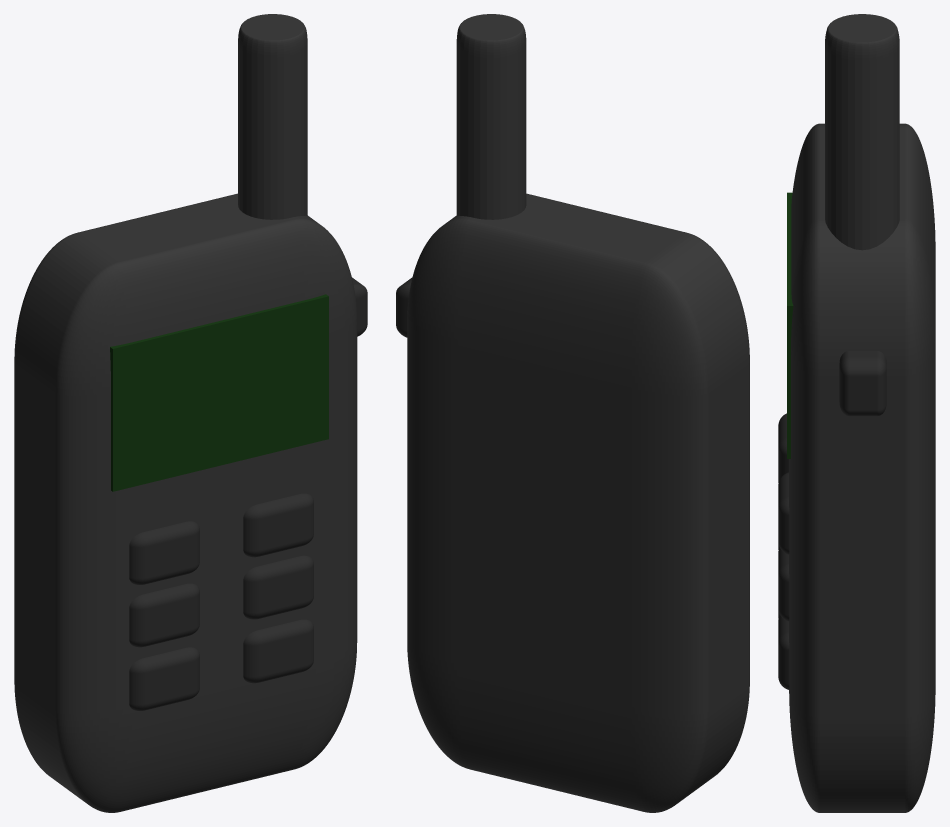
File: WalkieTalkie.fbx
The picture shows the model from 3 angles, left to right: view 1: azimuth 30°, elevation 25°; view 2: azimuth 150°, elevation 25°; view 3: azimuth 270°, elevation 25°; orthographic projection. The views are drawn at different scales.
Visible parts, largest first — view 1: Cube, Cube.001, Cylinder, Cube.004, Cube.006, Cube.003, Cube.007, Cube.002, Cube.005; view 2: Cube, Cylinder, Cube.008; view 3: Cube, Cylinder, Cube.008, Cube.001, Cube.006, Cube.002, Cube.004, Cube.007.
Part boxes in pixels (x1,y1,x2,y2): Cube: (14,193,357,812); Cube.001: (110,294,328,491); Cylinder: (238,14,307,219); Cube.004: (243,555,313,619); Cube.006: (243,493,313,557); Cube.003: (129,647,199,710); Cube.007: (129,521,199,584); Cube.002: (243,619,313,683); Cube.005: (129,583,199,647); Cube: (407,193,749,812); Cylinder: (456,14,526,219); Cube.008: (396,277,412,337); Cube: (789,123,935,812); Cylinder: (825,14,899,250); Cube.008: (839,351,886,416); Cube.001: (787,192,793,458); Cube.006: (778,472,789,554); Cube.002: (778,615,789,689); Cube.004: (778,547,789,621); Cube.007: (778,413,788,482).
Bounding box in the file's own units: 217 × 463 × 84.61.
